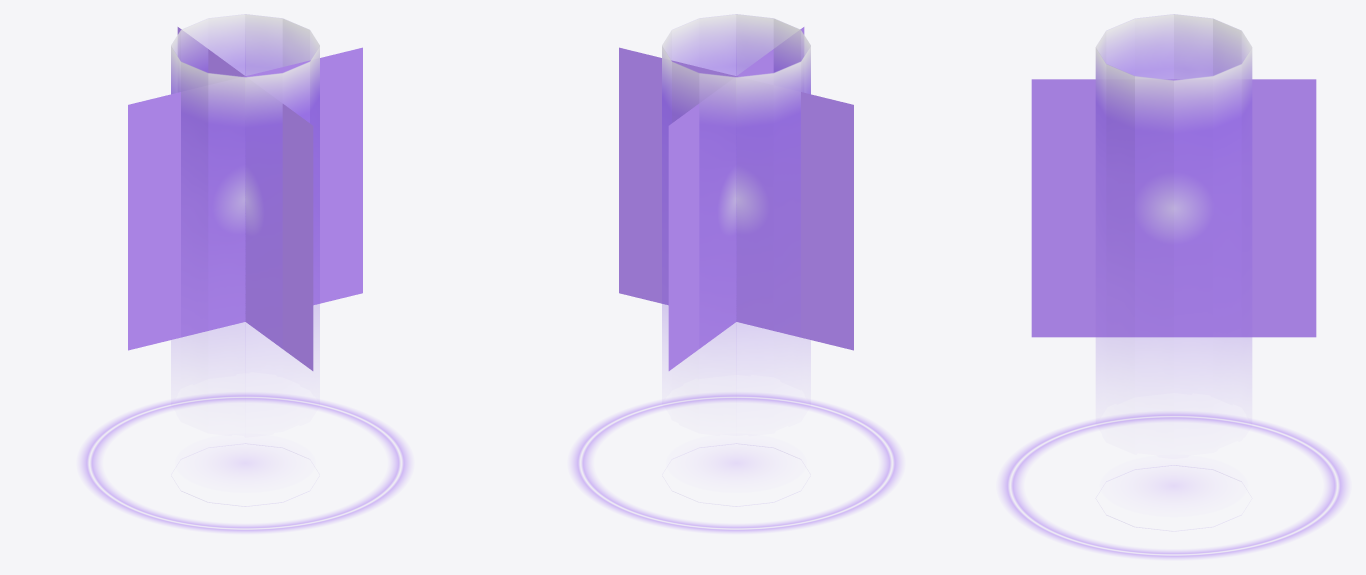
The model's file is fx_death.glb.
The picture shows the model from 3 angles, left to right: view 1: azimuth 30°, elevation 25°; view 2: azimuth 150°, elevation 25°; view 3: azimuth 270°, elevation 25°; orthographic projection. The views are drawn at different scales.
Parts seen in each view (by area): view 1: fx_death_glow, fx_death_wisp, fx_death_ring; view 2: fx_death_glow, fx_death_wisp, fx_death_ring; view 3: fx_death_glow, fx_death_wisp, fx_death_ring.
Part boxes in pixels (left/top/right/bottom): fx_death_glow: left=128, top=27, right=362, bottom=370; fx_death_wisp: left=171, top=14, right=319, bottom=506; fx_death_ring: left=79, top=393, right=411, bottom=533; fx_death_glow: left=619, top=27, right=853, bottom=370; fx_death_wisp: left=662, top=14, right=810, bottom=506; fx_death_ring: left=570, top=393, right=902, bottom=533; fx_death_glow: left=1031, top=79, right=1316, bottom=337; fx_death_wisp: left=1095, top=14, right=1252, bottom=531; fx_death_ring: left=999, top=412, right=1348, bottom=559.
Bounding box in the file's own units: 1 × 1.4 × 1.
Materials: 3 (3 with a texture image).
